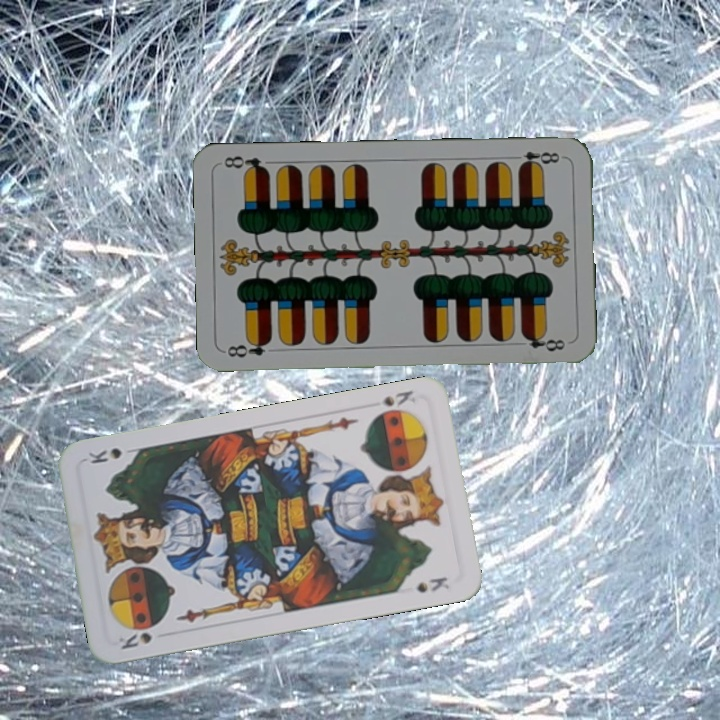E8: (507, 147, 567, 171), (223, 335, 274, 360)
SK: (364, 386, 419, 411), (117, 628, 155, 652)
